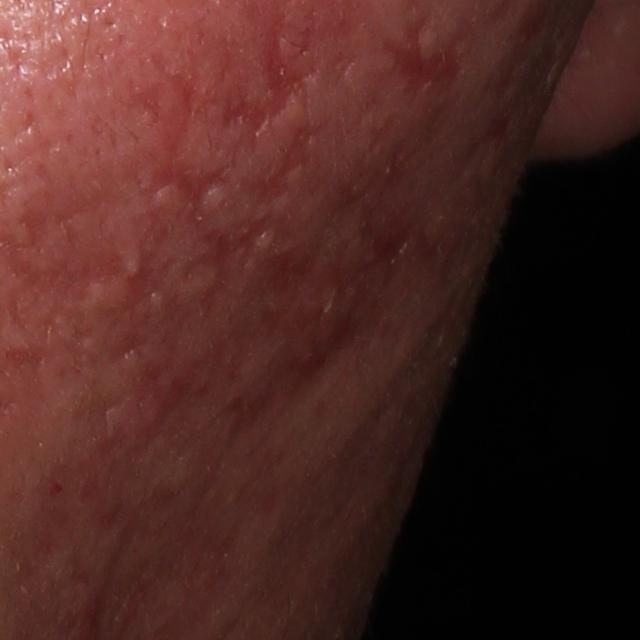atrophic_scar: (229, 283, 393, 430), (146, 72, 232, 227), (221, 18, 316, 132), (182, 214, 274, 320), (104, 215, 170, 329), (236, 119, 325, 203), (377, 5, 459, 93), (246, 252, 330, 302), (368, 210, 430, 267)
hypertrophic_scar: (150, 183, 190, 212), (201, 184, 231, 216), (120, 251, 143, 280)
